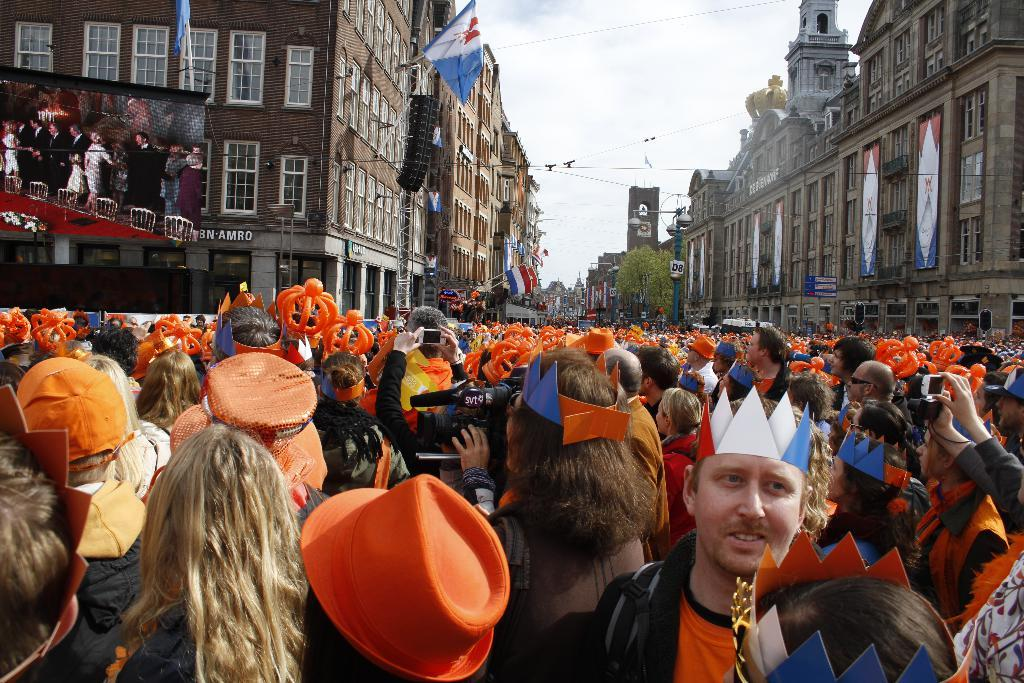Hat: (299, 473, 509, 682), (169, 350, 321, 513), (16, 356, 127, 474), (954, 342, 1000, 370), (986, 363, 1022, 398), (682, 334, 712, 359)
